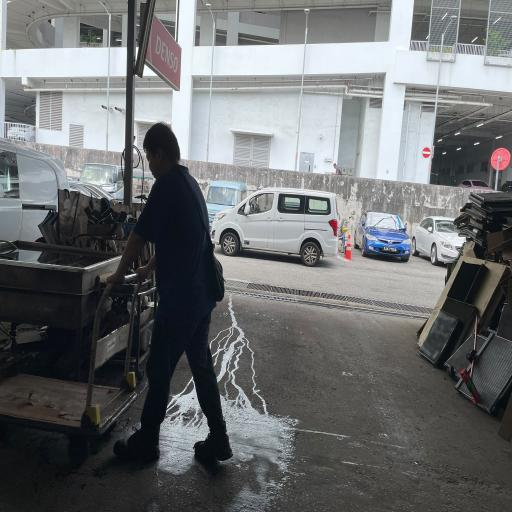person_left: (2, 110, 236, 476)
